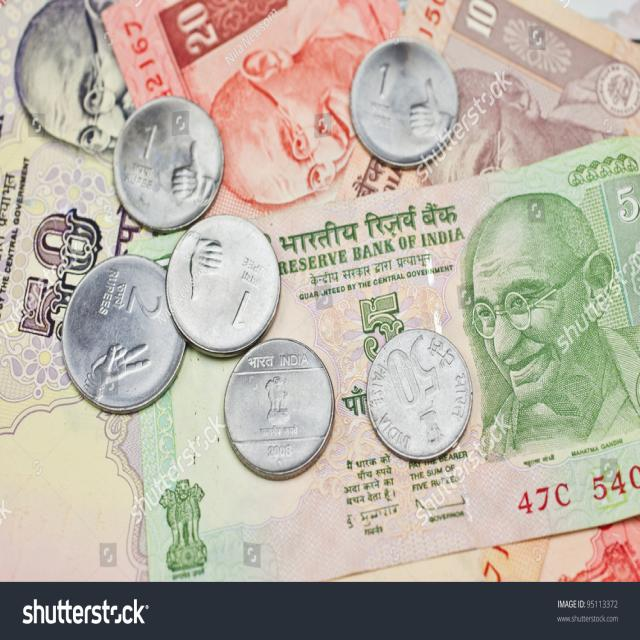5IndianRupees: (154, 168, 640, 545)
